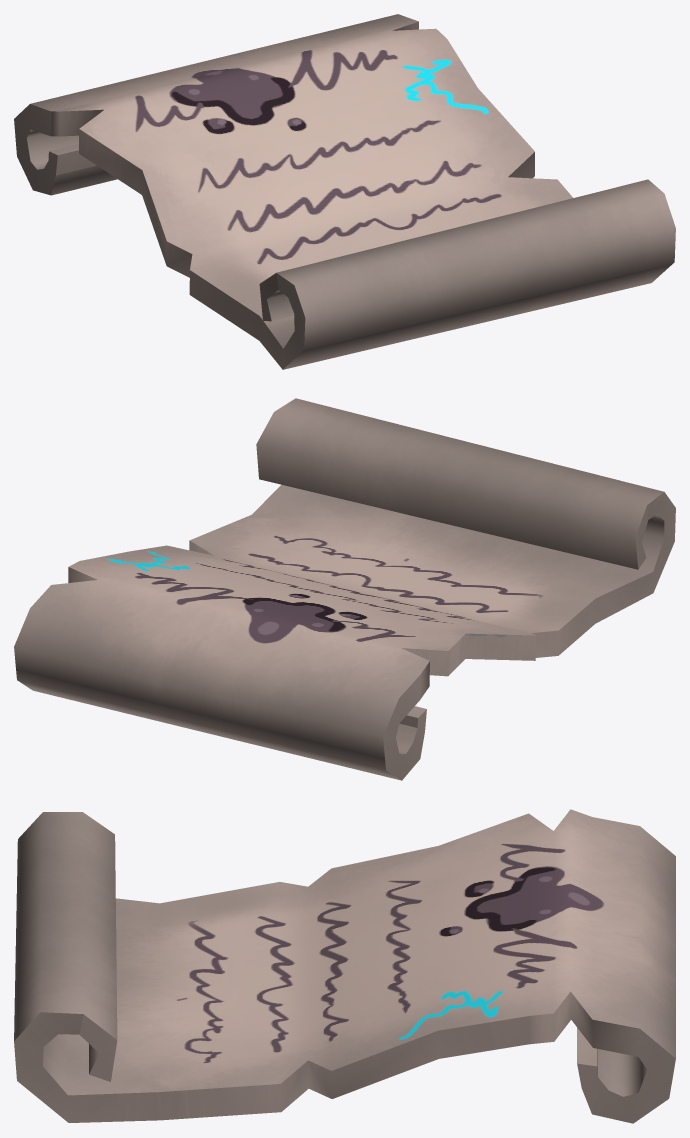
The model's file is MH_Scroll.fbx.
The picture shows the model from 3 angles, top to bottom: view 1: azimuth 30°, elevation 25°; view 2: azimuth 150°, elevation 25°; view 3: azimuth 270°, elevation 25°; orthographic projection. The views are drawn at different scales.
Visible parts, largest first — view 1: Scroll; view 2: Scroll; view 3: Scroll.
Part boxes in pixels (x1,y1,x2,y2): Scroll: (14, 14, 675, 369); Scroll: (14, 398, 675, 780); Scroll: (14, 809, 675, 1123).
Size of the model in its own units: 60.25 by 15.31 by 81.17.
Materials: 1 (1 with a texture image).
